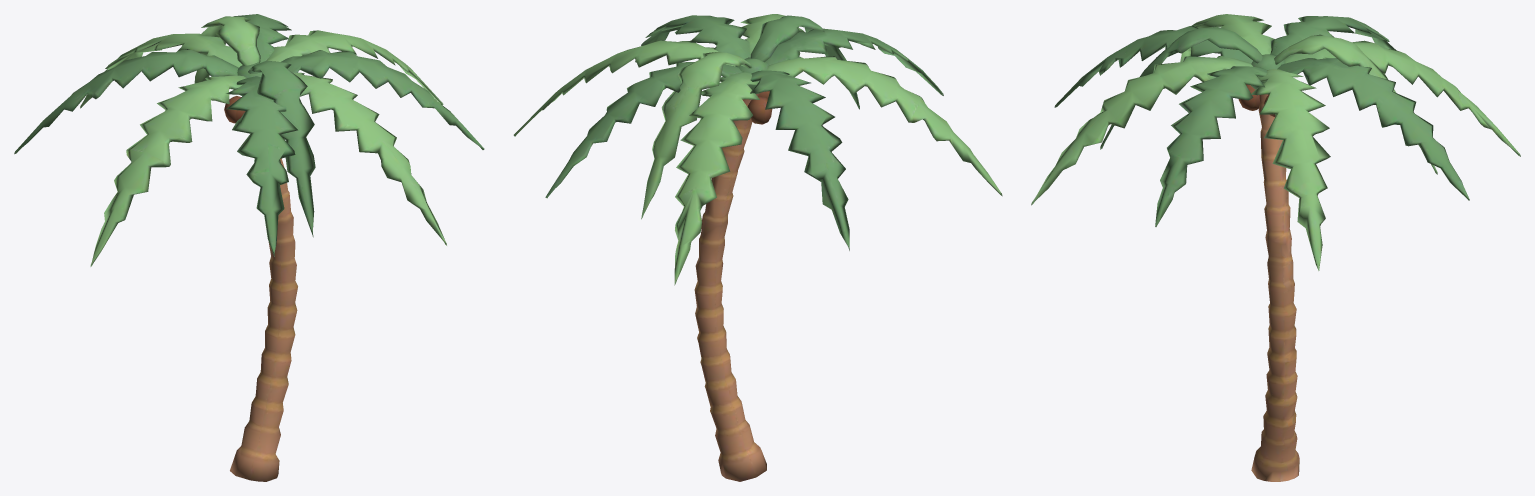
Rendered from palm-tree.glb.
3 views of the same model, side by side, from view 1: azimuth 30°, elevation 25°; view 2: azimuth 150°, elevation 25°; view 3: azimuth 270°, elevation 25° (orthographic).
Parts seen in each view (by area): view 1: palm-tree_body; view 2: palm-tree_body; view 3: palm-tree_body.
Boxes of the visible parts, x1,y1,x2,y2 form: palm-tree_body: (14, 14, 484, 481); palm-tree_body: (513, 14, 1002, 481); palm-tree_body: (1031, 14, 1520, 481).
Size of the model in its own units: 5.17 by 5.09 by 5.18.
1 material, 1 textured.
